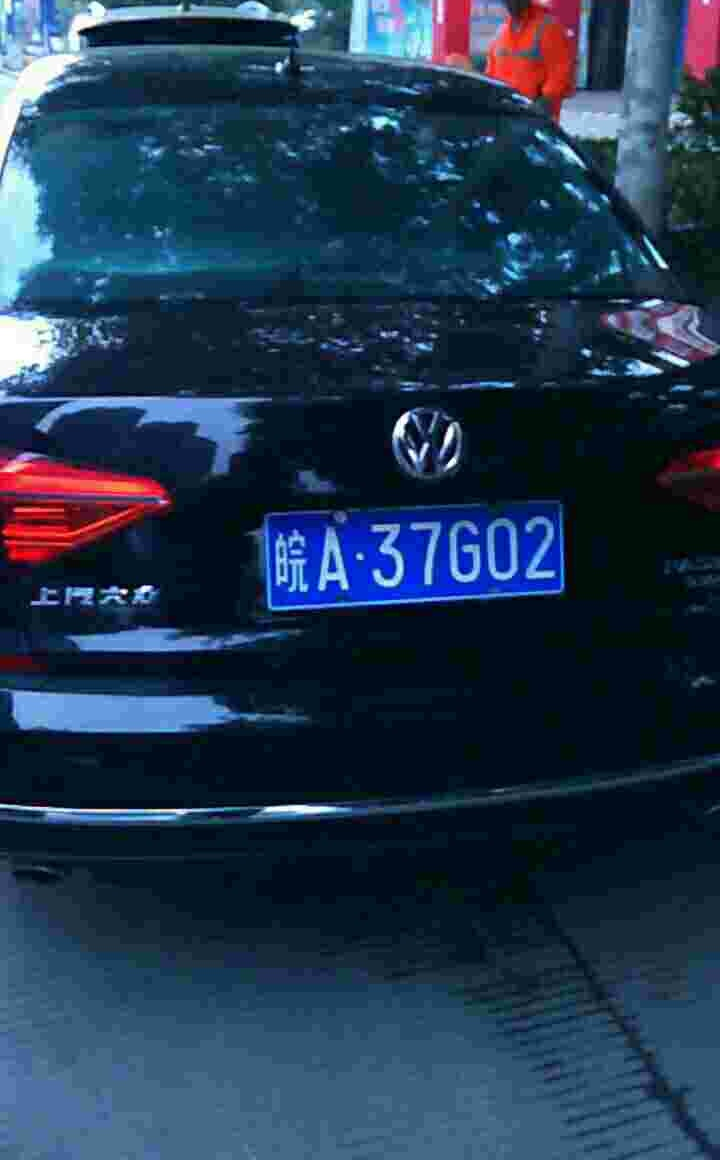license_plate: (265, 495, 585, 624)
